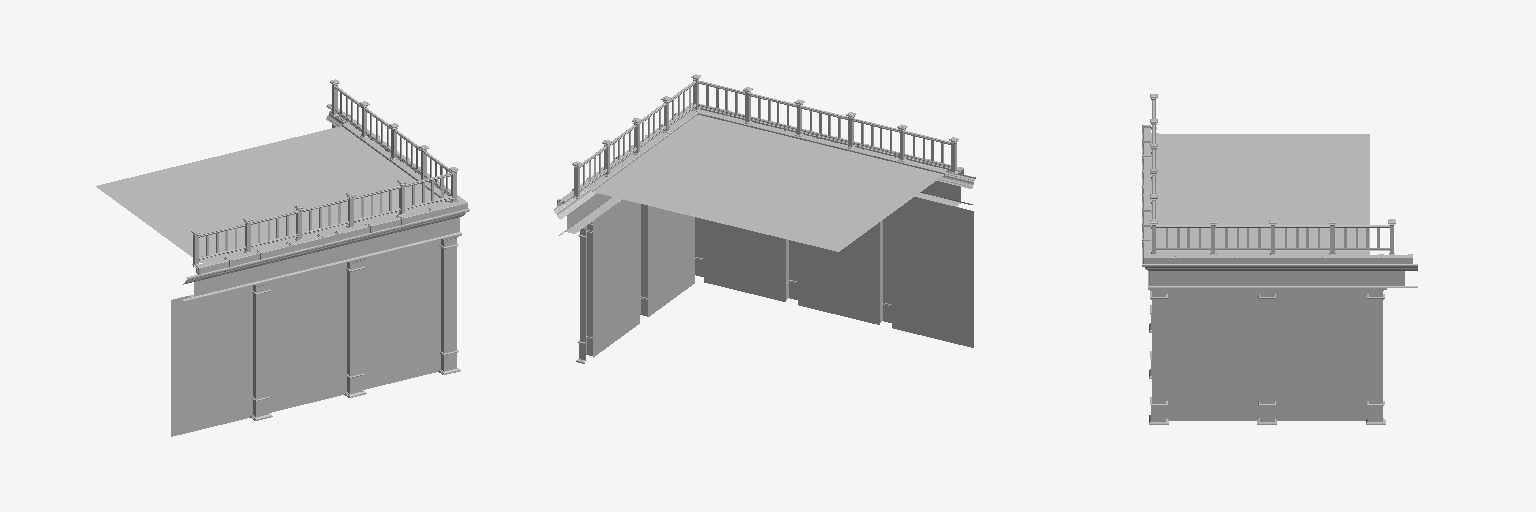
Rendered from pier.obj.
3 views of the same model, side by side, from view 1: azimuth 30°, elevation 25°; view 2: azimuth 150°, elevation 25°; view 3: azimuth 270°, elevation 25° (orthographic).
Visible parts, largest first — view 1: lp_pier_all; view 2: lp_pier_all; view 3: lp_pier_all.
Part boxes in pixels (left/top/right/bottom): lp_pier_all: left=96, top=79, right=469, bottom=436; lp_pier_all: left=554, top=74, right=975, bottom=363; lp_pier_all: left=1142, top=94, right=1417, bottom=424.
Size of the model in its own units: 41.87 by 27.88 by 34.52.